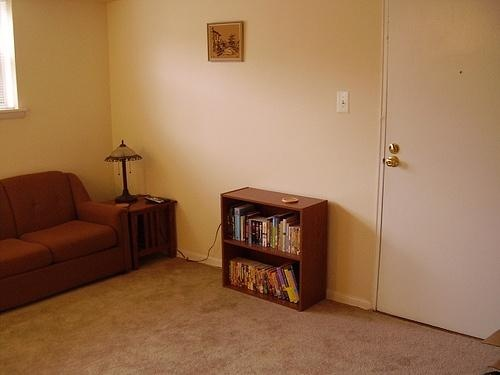sofa: (1, 166, 128, 316)
